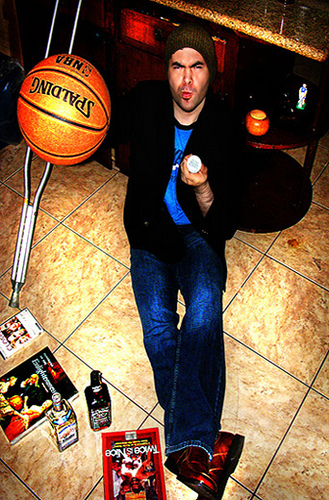basketball: (18, 54, 109, 165)
